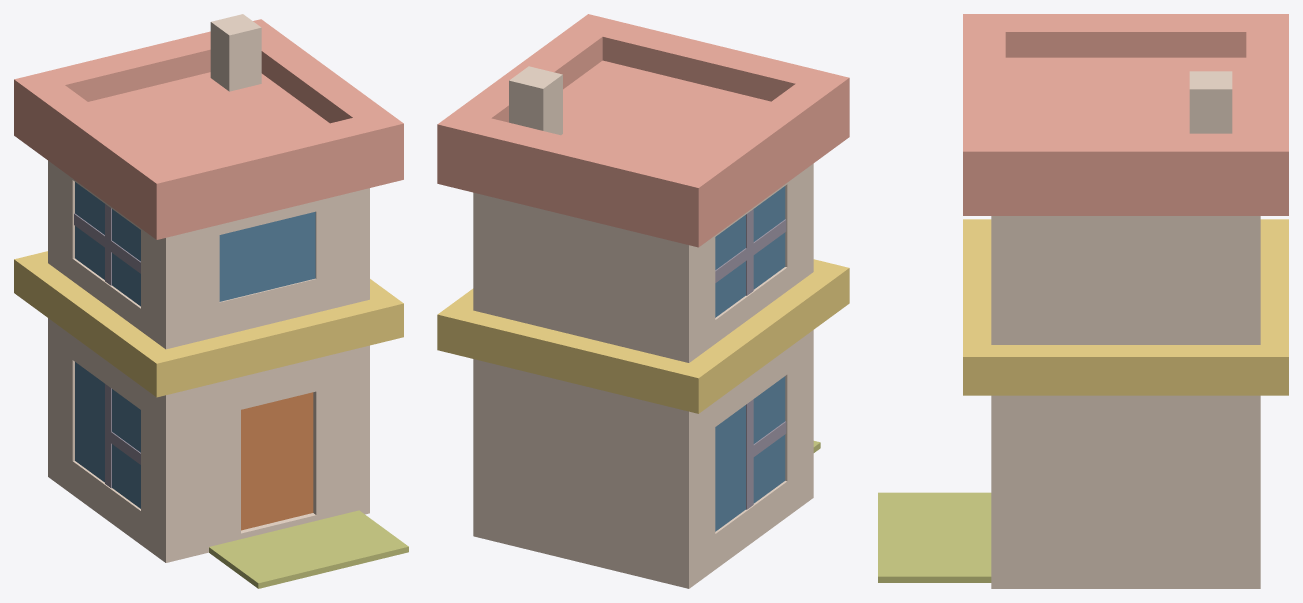
Rendered from fangjian4.obj.
3 views of the same model, side by side, from view 1: azimuth 30°, elevation 25°; view 2: azimuth 150°, elevation 25°; view 3: azimuth 270°, elevation 25° (orthographic). The views are drawn at different scales.
Bounding box in the file's own units: 2.3 × 3.8 × 2.9.
